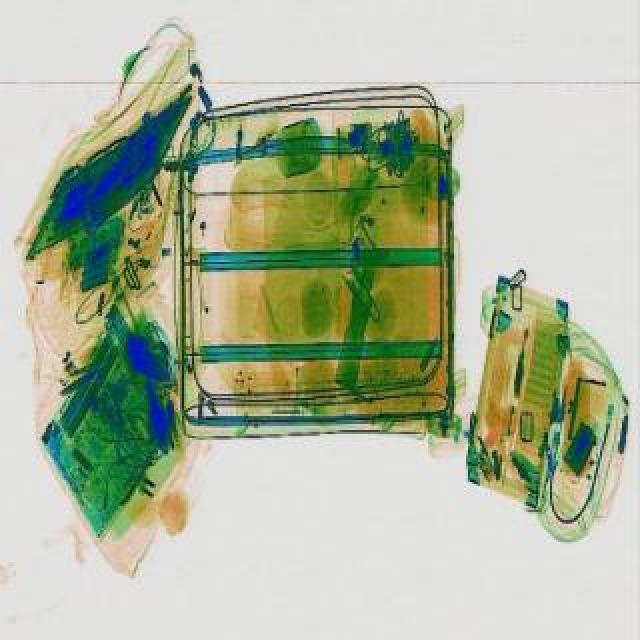pliers: (334, 262, 390, 324)
